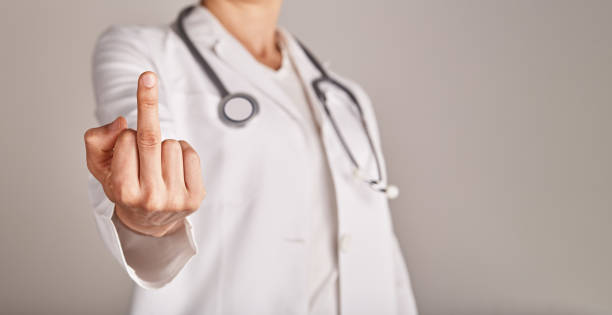insulting_gesture: (85, 70, 206, 241)
